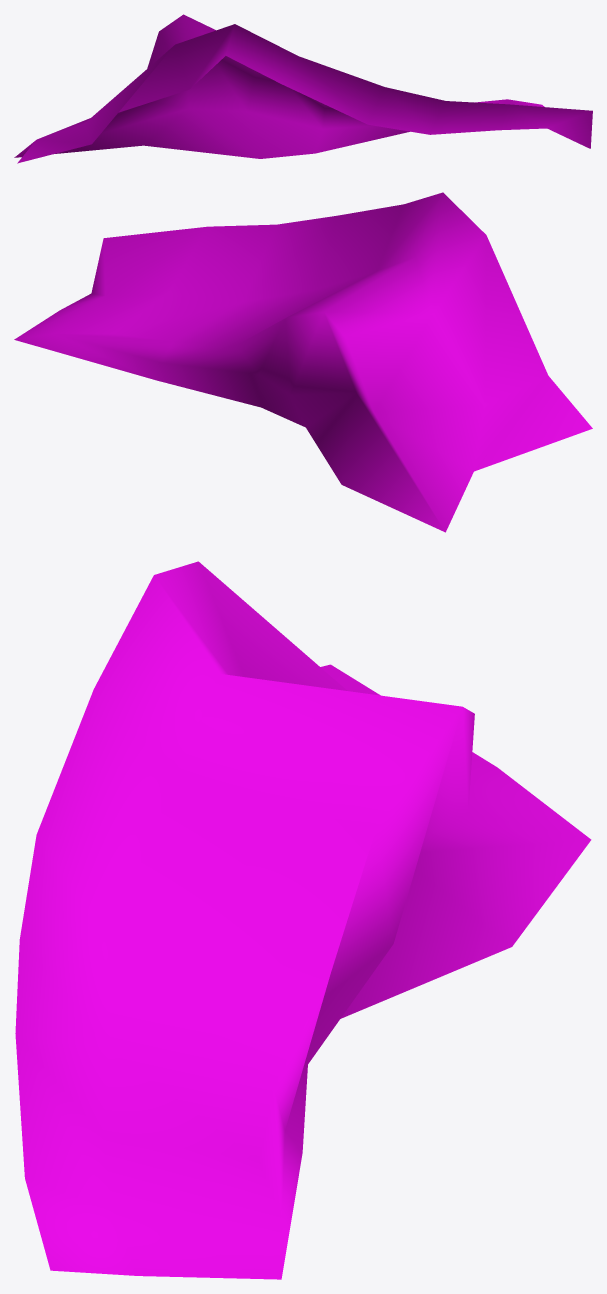
Rendered from RampTEST01.fbx.
3 renders of one model, top to bottom at view 1: azimuth 30°, elevation 25°; view 2: azimuth 150°, elevation 25°; view 3: azimuth 270°, elevation 25°, orthographic. The views are drawn at different scales.
Visible parts, largest first — view 1: BIGramp_mesh; view 2: BIGramp_mesh; view 3: BIGramp_mesh.
Part boxes in pixels (<box>): BIGramp_mesh: <box>14,14,592,163</box>; BIGramp_mesh: <box>14,192,592,532</box>; BIGramp_mesh: <box>15,561,591,1279</box>.
Size of what is drawn, in the model's own units: 66.98 by 23.31 by 32.58.
